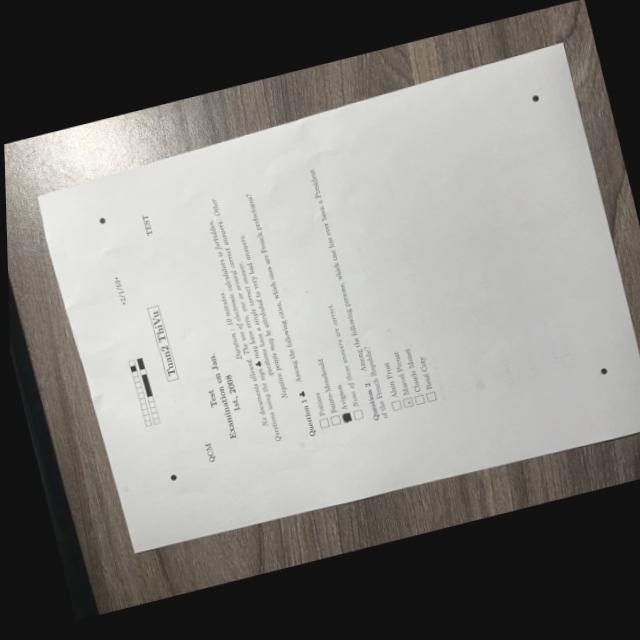Markers: (98, 215, 105, 223), (600, 366, 607, 374), (170, 472, 176, 480), (531, 94, 539, 100)
